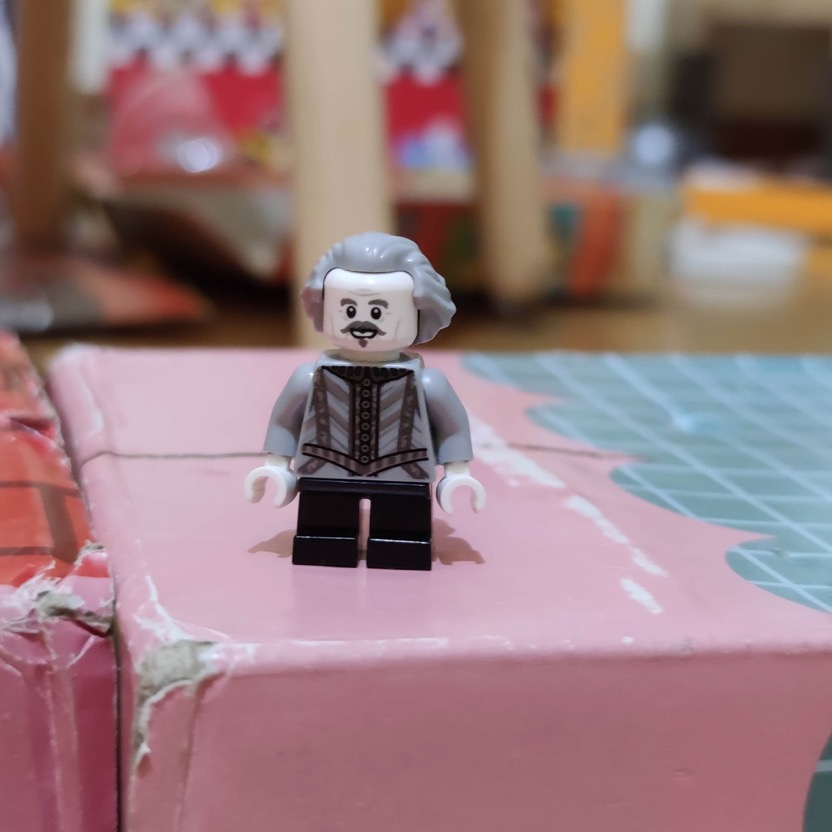lego: (242, 230, 490, 572)
